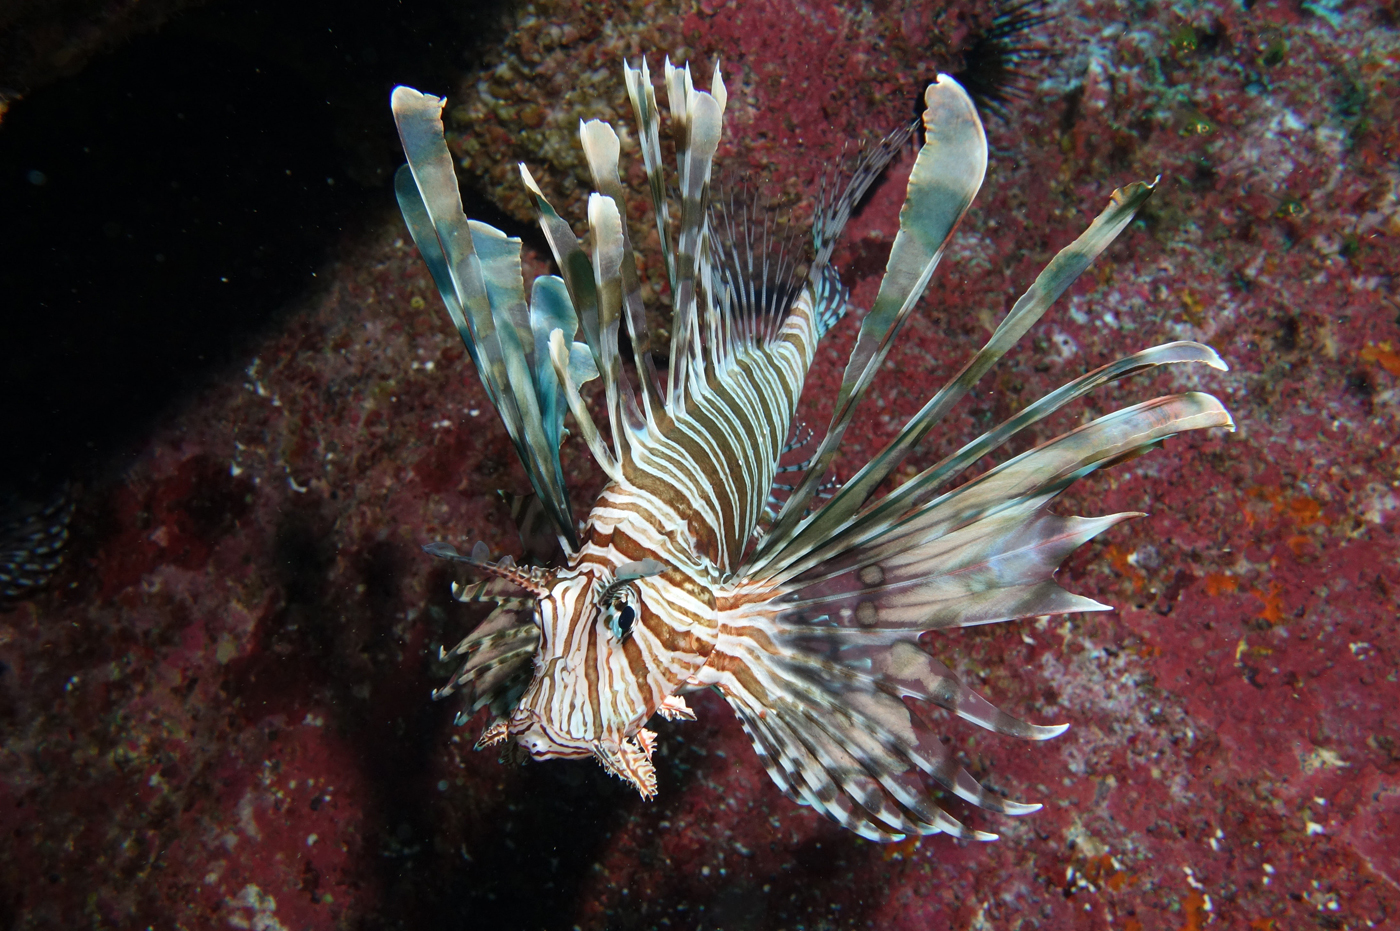Pterois_volitans: (317, 62, 1207, 875)
